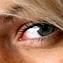eye: (34, 26, 54, 36)
